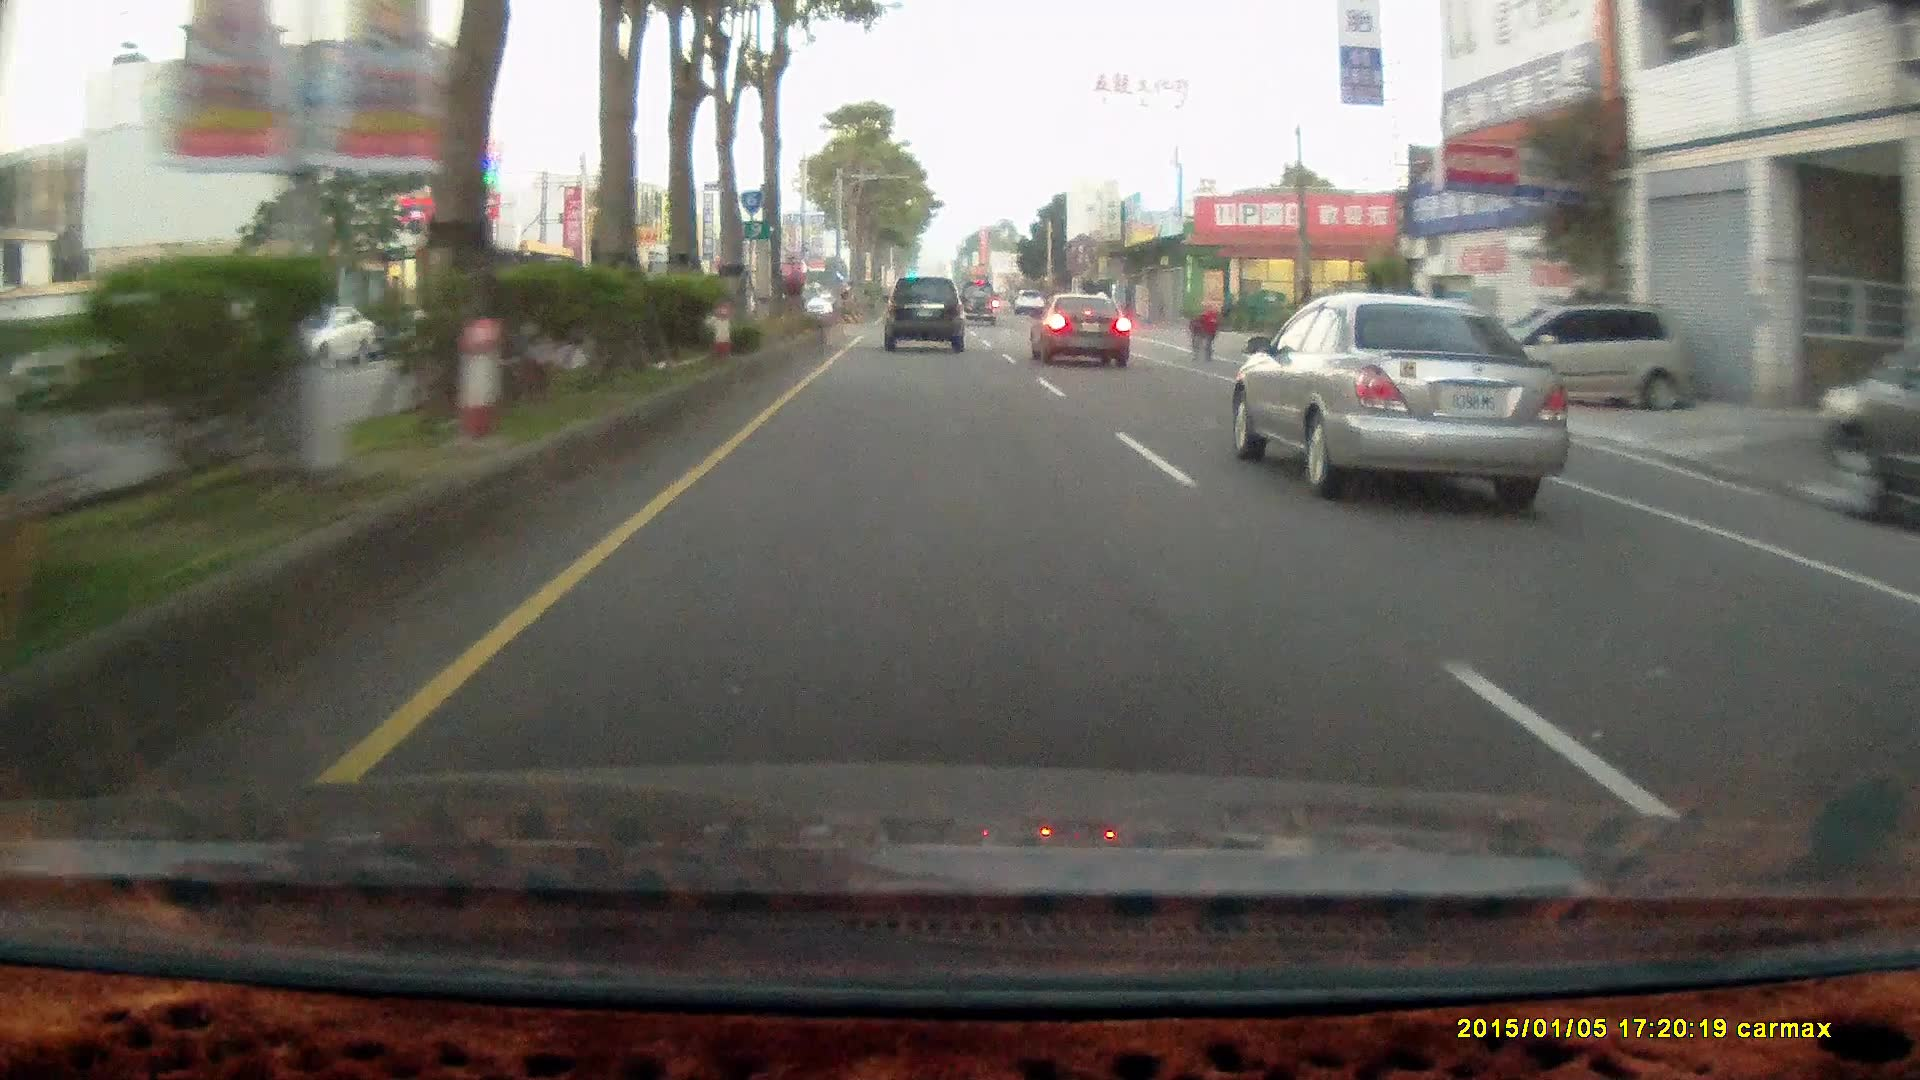pedestrian: (1196, 299, 1220, 363), (1198, 302, 1220, 362)
vehicle: (1238, 298, 1571, 503), (1474, 299, 1682, 410), (1499, 299, 1684, 411), (1818, 324, 1920, 527), (259, 300, 375, 373), (1030, 293, 1135, 370), (1029, 291, 1130, 369), (883, 283, 971, 360), (883, 278, 964, 353), (958, 278, 998, 324)
